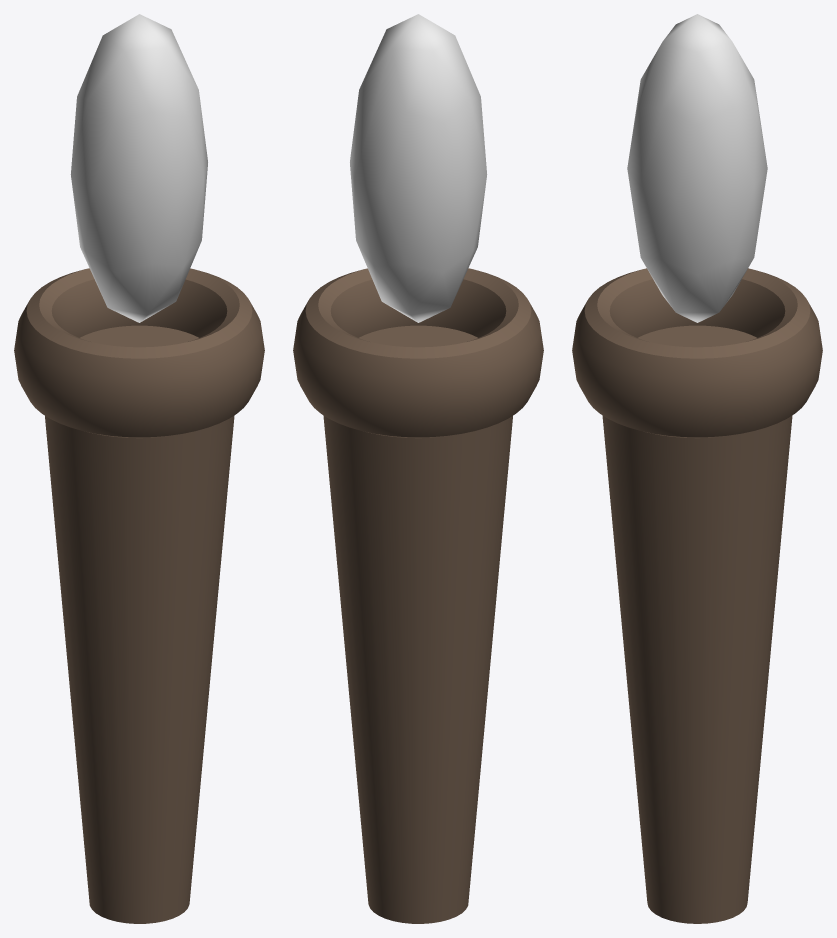
The model's file is torch.fbx.
The picture shows the model from 3 angles, left to right: view 1: azimuth 30°, elevation 25°; view 2: azimuth 150°, elevation 25°; view 3: azimuth 270°, elevation 25°; orthographic projection.
Parts seen in each view (by area): view 1: Torus, Icosphere; view 2: Torus, Icosphere; view 3: Torus, Icosphere.
Boxes of the visible parts, bbox=[...] form: Torus: bbox=[14, 268, 264, 923]; Icosphere: bbox=[70, 14, 207, 322]; Torus: bbox=[293, 268, 543, 923]; Icosphere: bbox=[350, 14, 487, 322]; Torus: bbox=[572, 268, 822, 923]; Icosphere: bbox=[627, 14, 767, 322].
Size of the model in its own units: 62.5 by 245 by 62.5.
